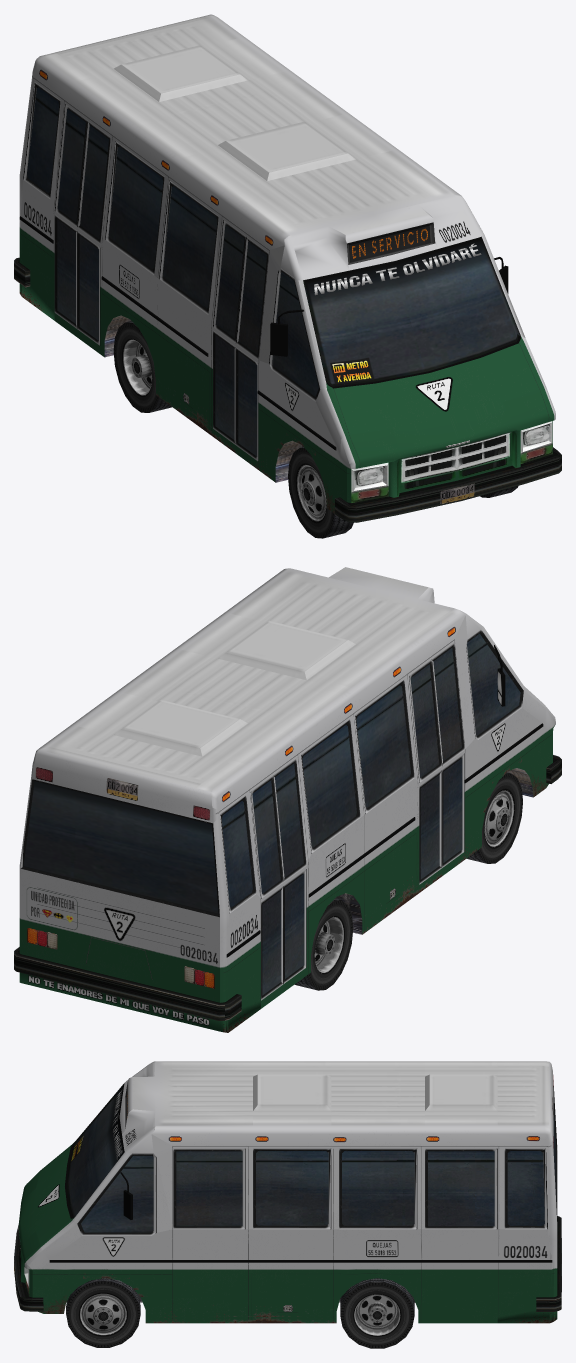
File: microbus_mexico_df.glb
The picture shows the model from 3 angles, top to bottom: view 1: azimuth 30°, elevation 25°; view 2: azimuth 150°, elevation 25°; view 3: azimuth 270°, elevation 25°; orthographic projection. The views are drawn at different scales.
Visible parts, largest first — view 1: Tube001_01 - Default_0; view 2: Tube001_01 - Default_0; view 3: Tube001_01 - Default_0.
Boxes of the visible parts, x1=… form: Tube001_01 - Default_0: x1=14, y1=14, x2=561, y2=538; Tube001_01 - Default_0: x1=14, y1=567, x2=561, y2=1032; Tube001_01 - Default_0: x1=14, y1=1061, x2=561, y2=1348.
Bounding box in the file's own units: 2.4 × 2.69 × 6.03.
1 material, 1 textured.
